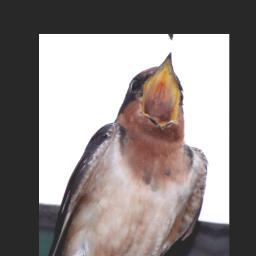Swallow: (46, 40, 217, 256)
